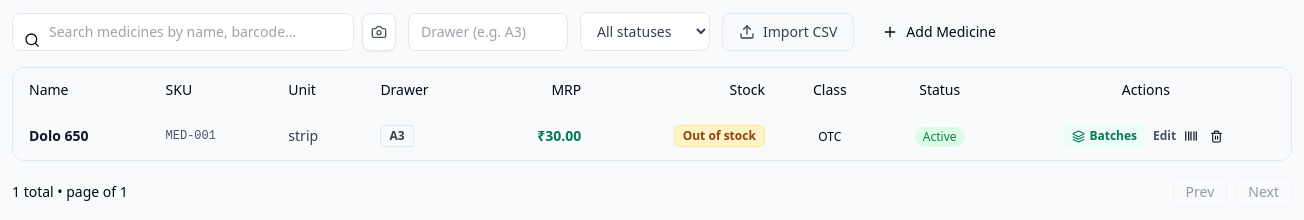
Scenario: mapping medicines to drawers from the inventory list › writes nothing when the drawer was not actually changed
Click the button named "Drawer for Dolo 650" at (397, 136), box [380,125,414,147]
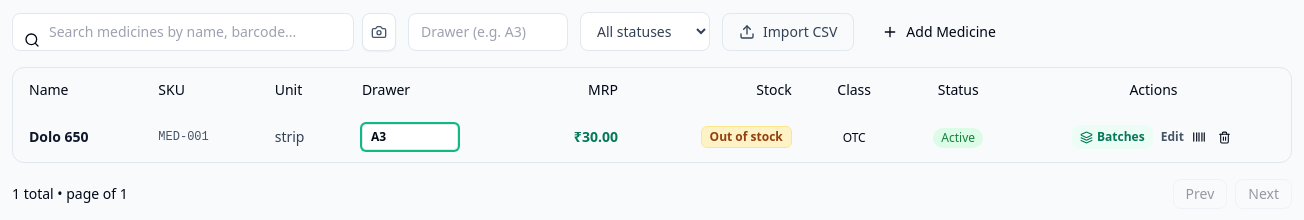
# Clicking through a row while walking the shelves must not write.
Press Tab
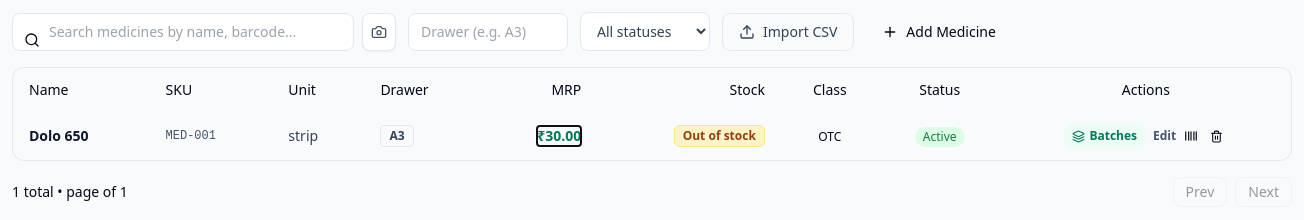
Expected: the button named "Drawer for Dolo 650" is shown, [380,125,414,147]
